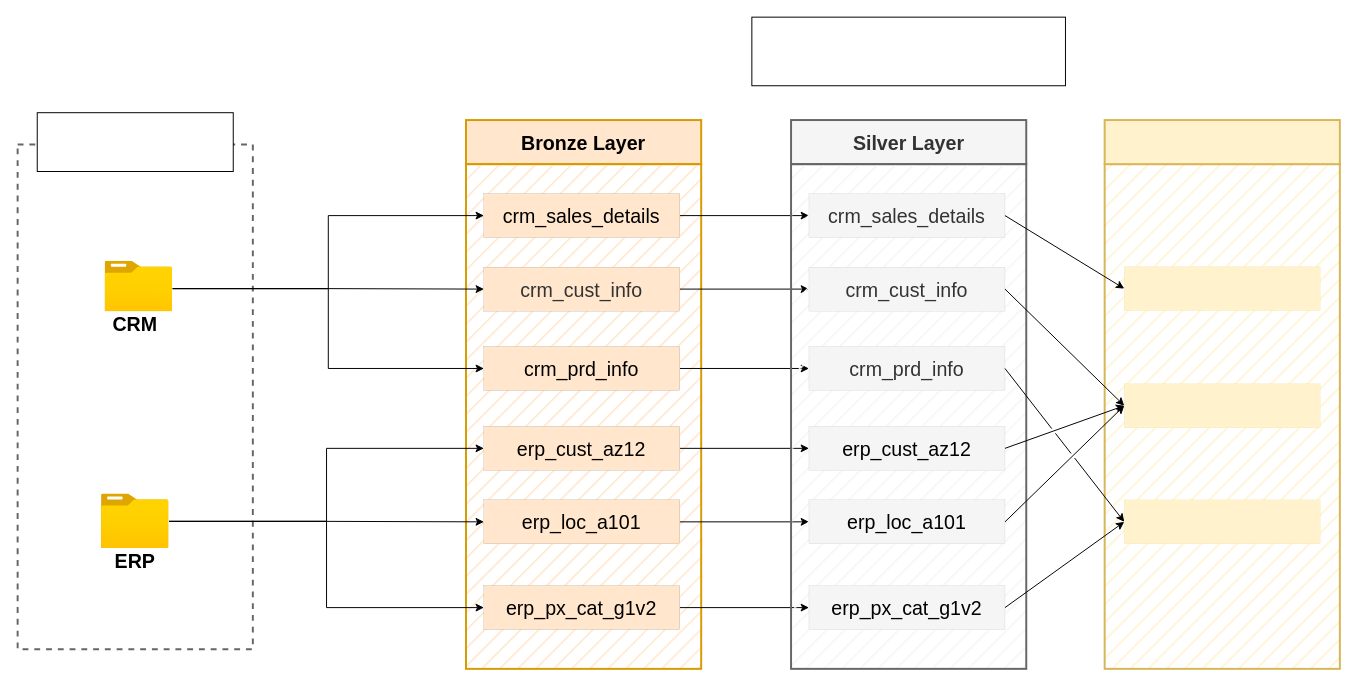
The diagram is 1358 pixels wide and 687 high, and some of its shapes have lost their labels. Each missing label, with the box of its shape:
Data Warehouse: (751, 16, 1065, 86)
dim_customers: (1124, 383, 1320, 427)
dim_prodcuts: (1124, 499, 1320, 543)
fact_sales: (1124, 266, 1320, 310)
Gold Layer: (1103, 119, 1340, 165)
Sources: (36, 112, 233, 172)
